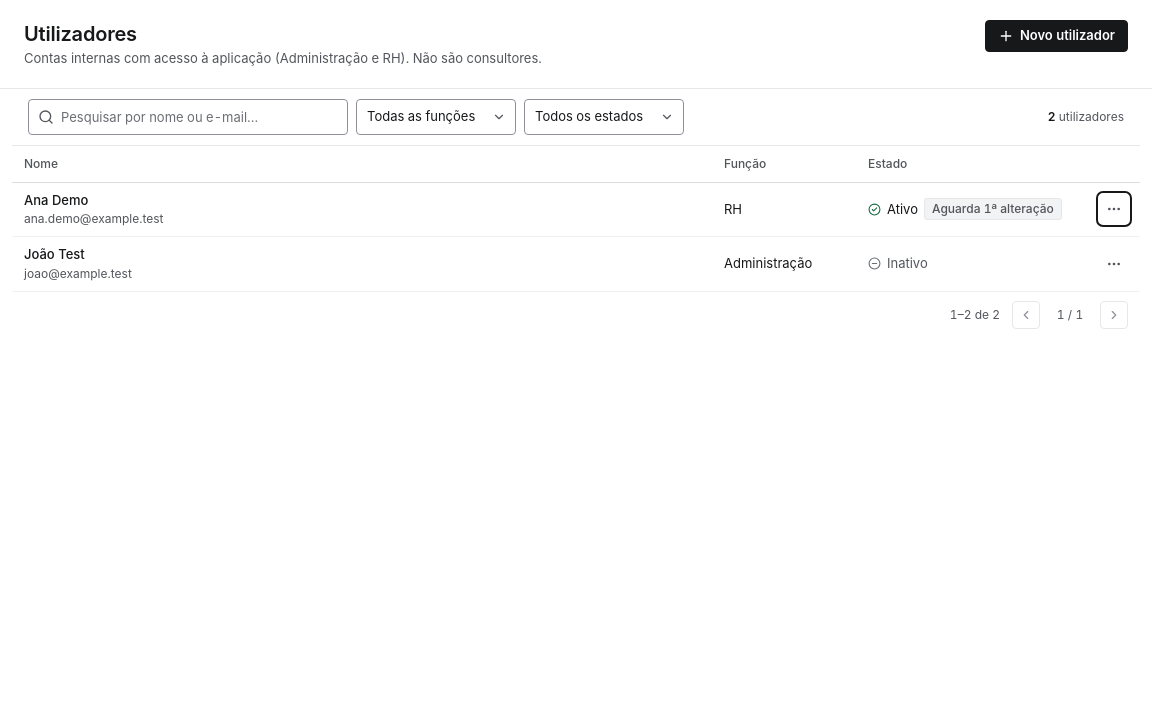
Test: UsersPage › deactivation is confirmed, posts to the existing endpoint and shows a failure inside the dialog
Step 1. Press Enter
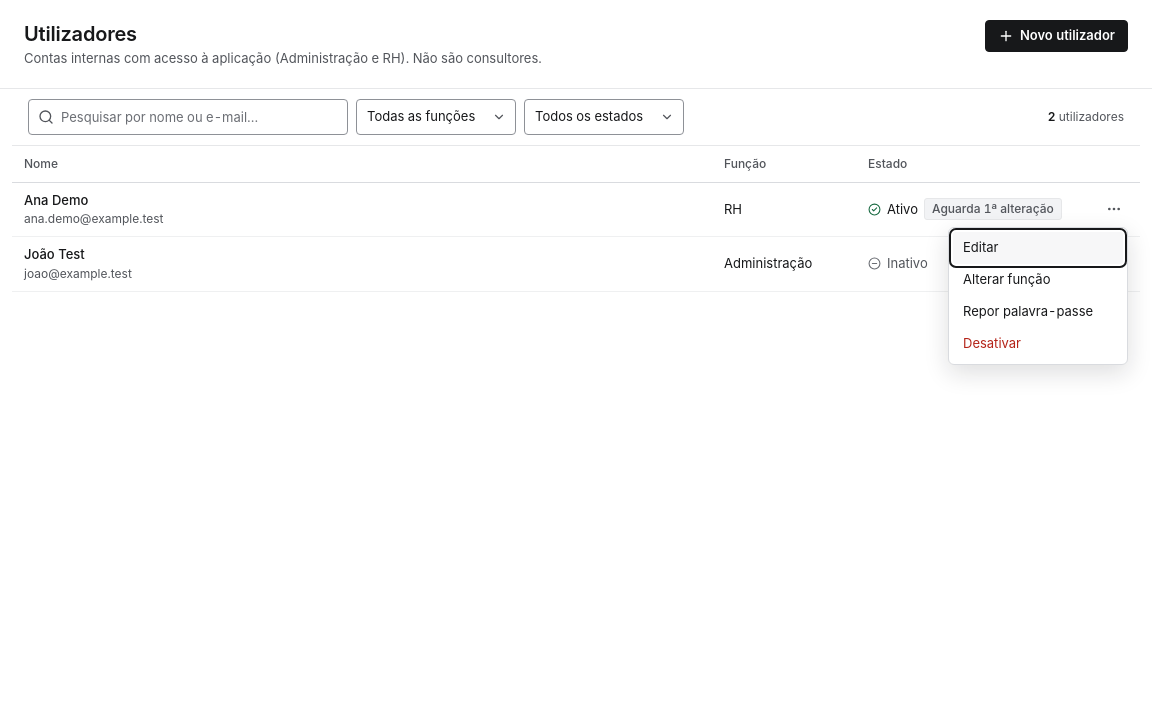
Step 2. Click the menu item "Desativar" → (992, 343), box [963, 335, 1021, 351]
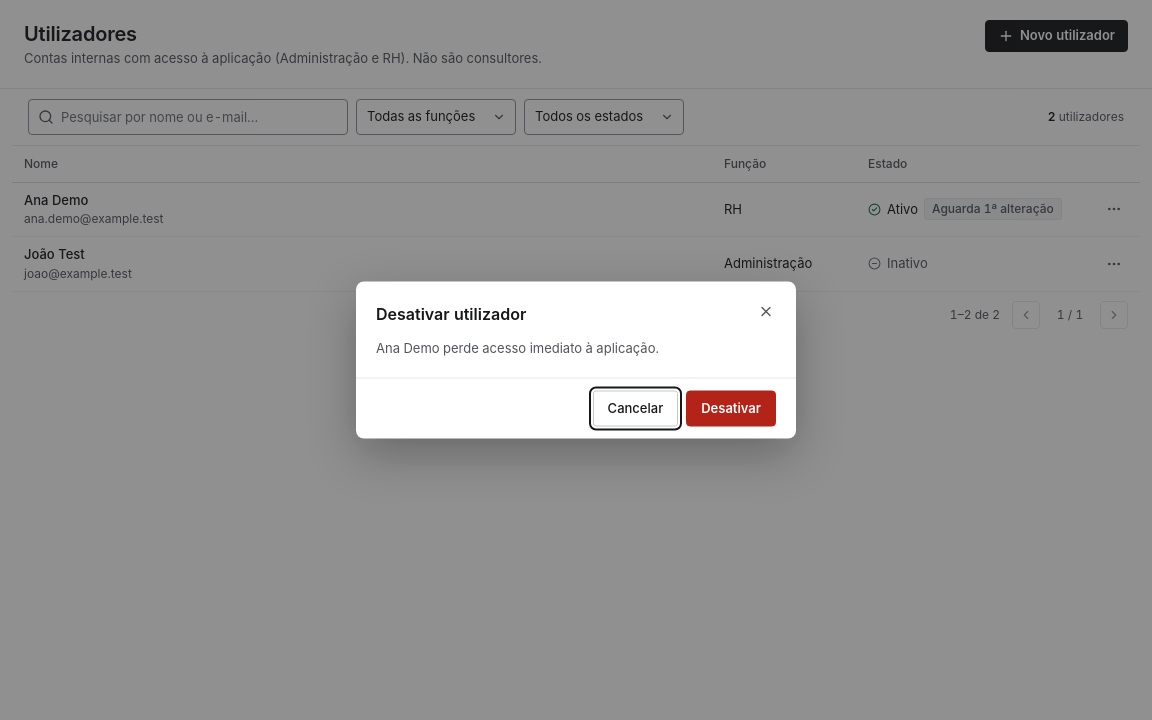
Step 3. Click the button "Desativar" → (731, 408), box [686, 390, 776, 426]
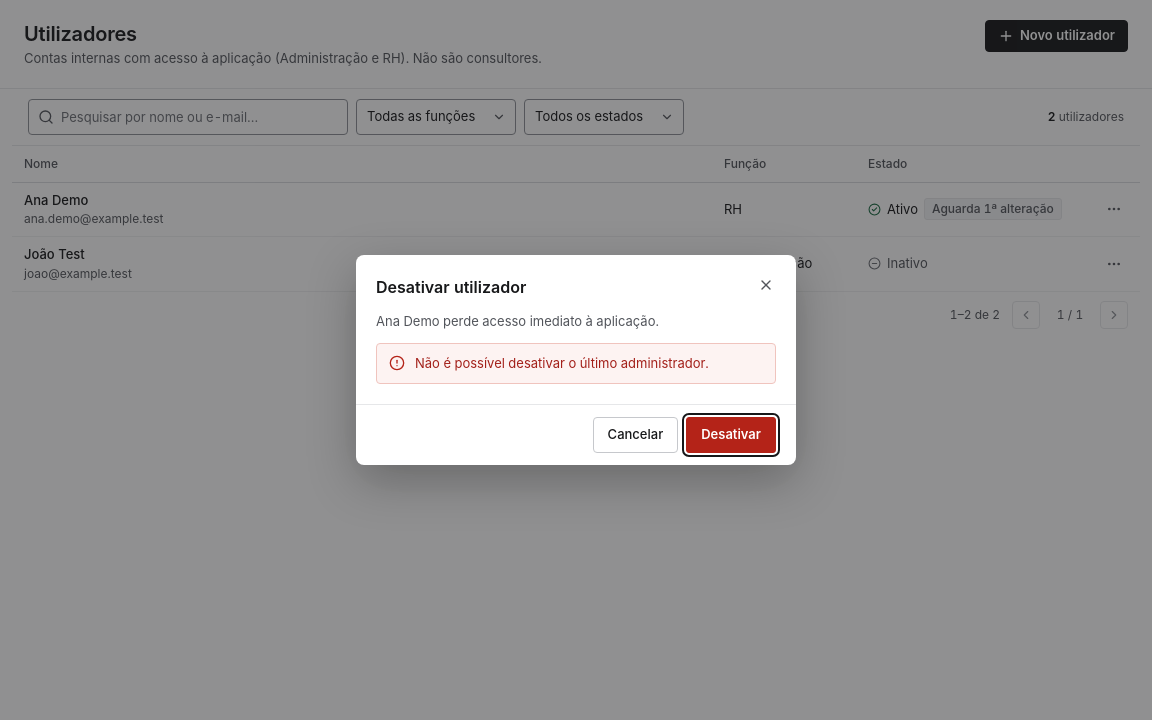
Check: the message reads "Não é possível desativar o último administrador.", box [415, 355, 709, 371]
